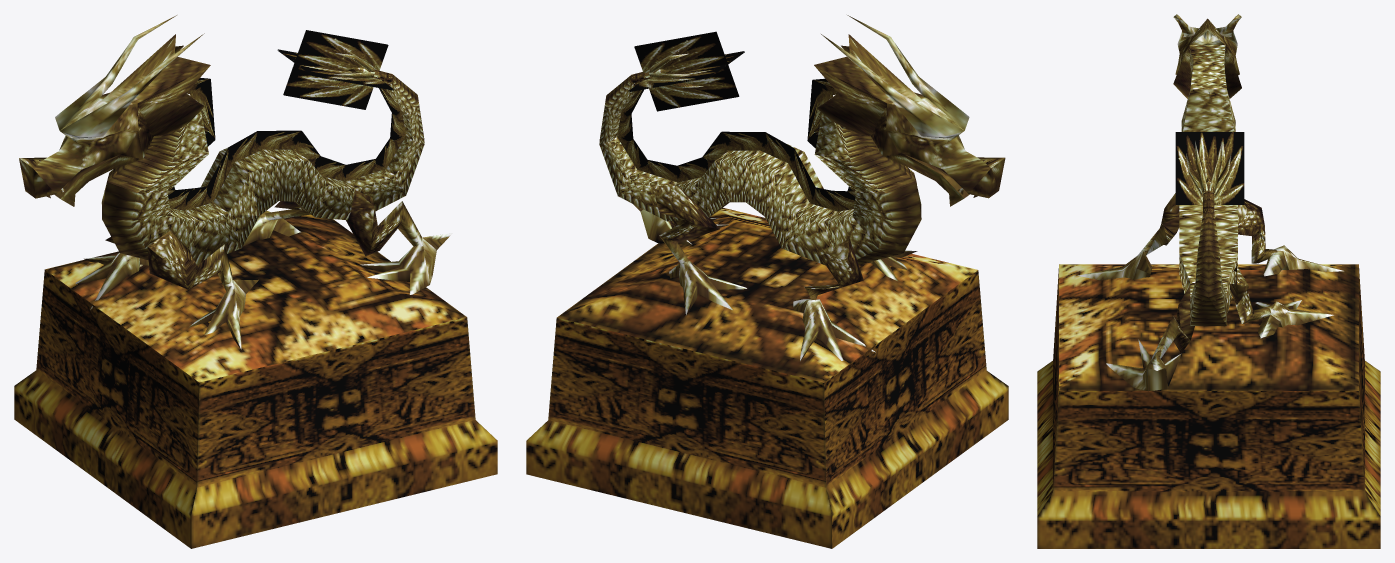
The model's file is IPItem01.FBX.
3 renders of one model, left to right at view 1: azimuth 30°, elevation 25°; view 2: azimuth 150°, elevation 25°; view 3: azimuth 270°, elevation 25°, orthographic. The views are drawn at different scales.
Visible parts, largest first — view 1: IPItem01; view 2: IPItem01; view 3: IPItem01.
Boxes of the visible parts, x1,y1,x2,y2 form: IPItem01: (14, 15, 497, 548); IPItem01: (526, 15, 1008, 548); IPItem01: (1037, 14, 1380, 548).
Bounding box in the file's own units: 13.13 × 13.75 × 10.03.
Materials: 2 (2 with a texture image).
